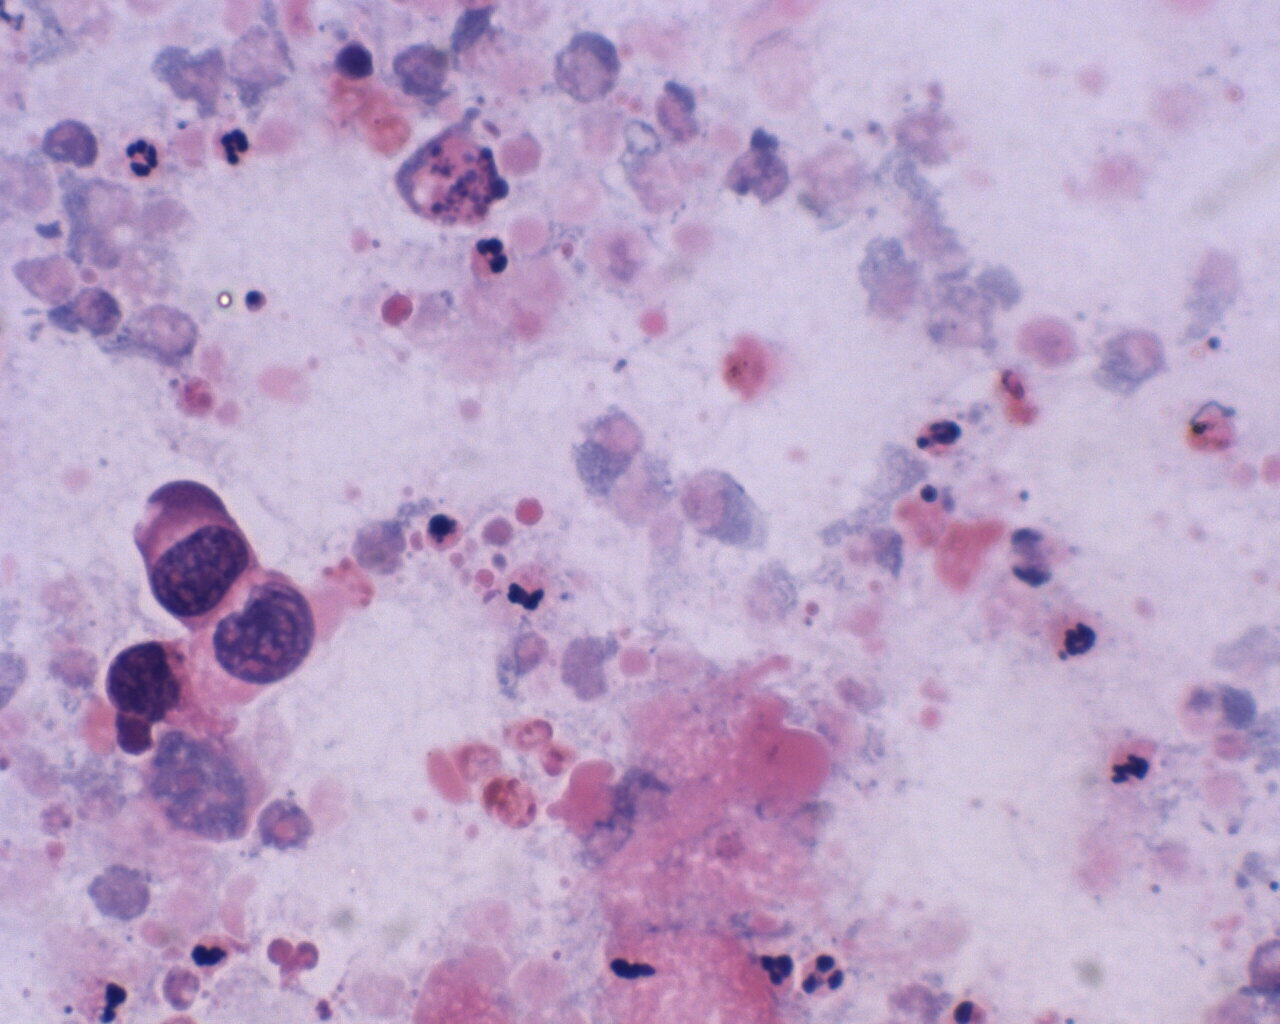ab: (132, 478, 253, 622), (207, 571, 318, 686), (100, 638, 197, 718)
neutro: (795, 951, 850, 1002), (468, 231, 509, 280), (124, 132, 165, 177), (216, 125, 256, 167)
